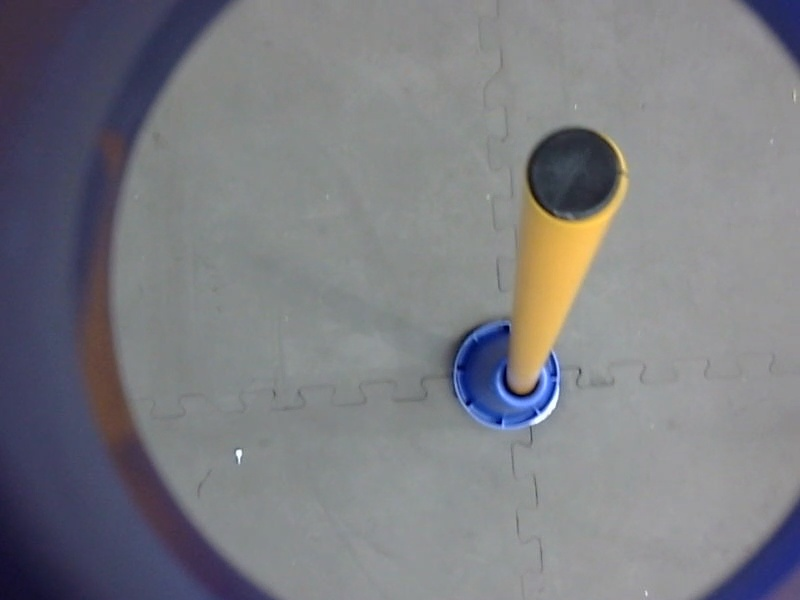tip: (518, 121, 632, 233)
